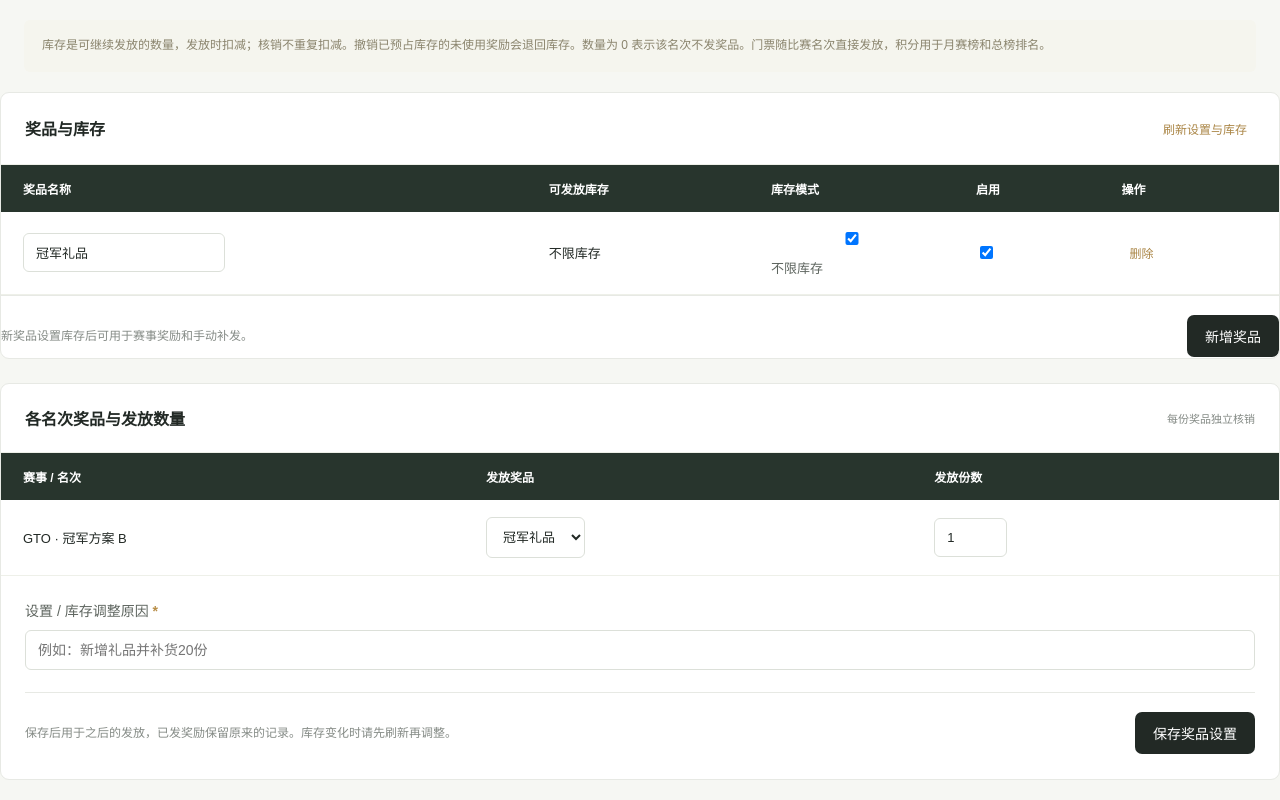
后台保存奖品名称、库存、发放数量和调整原因，带上库存版本
Replace the text in the field named "GIFT奖品名称" with "赛事纪念杯". click: (124, 253)
box: [23,233,225,272]
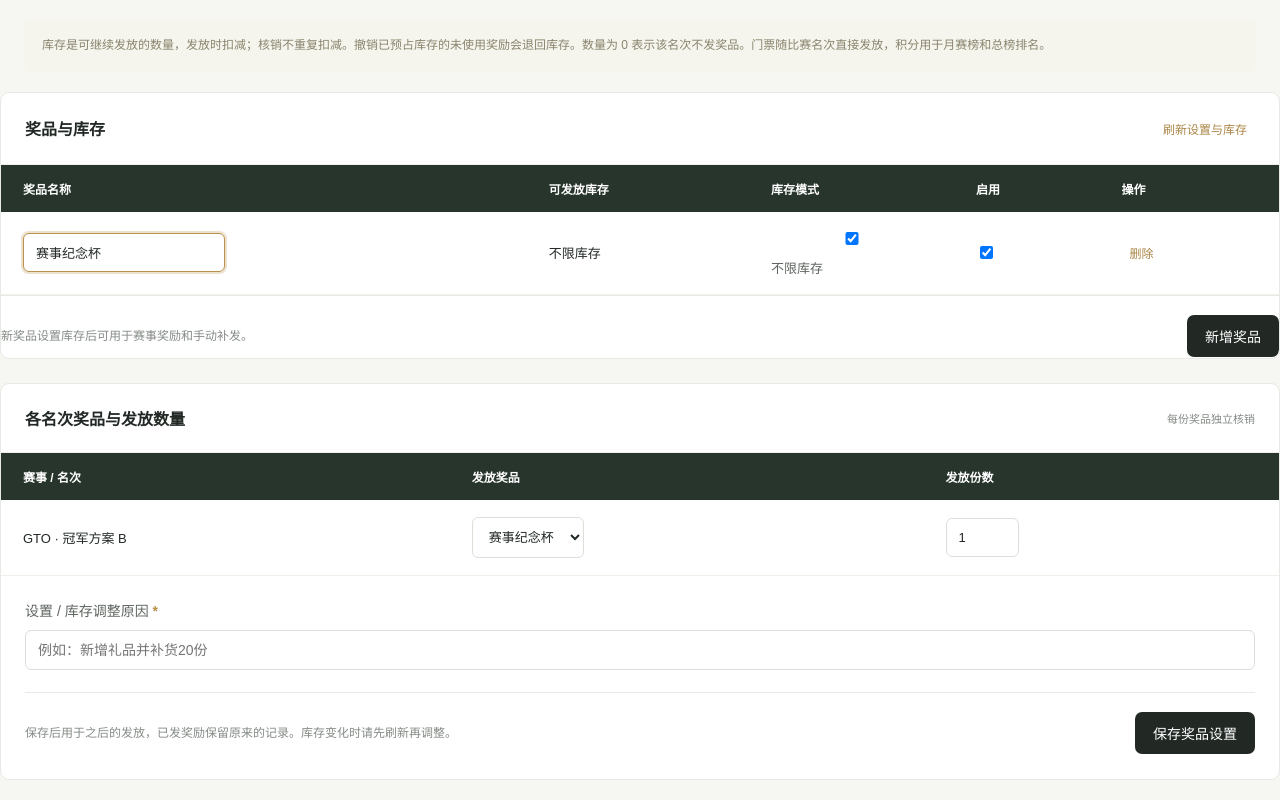
Click the checkbox labelled "不限库存". click: (852, 238)
box: [775,232,929,245]
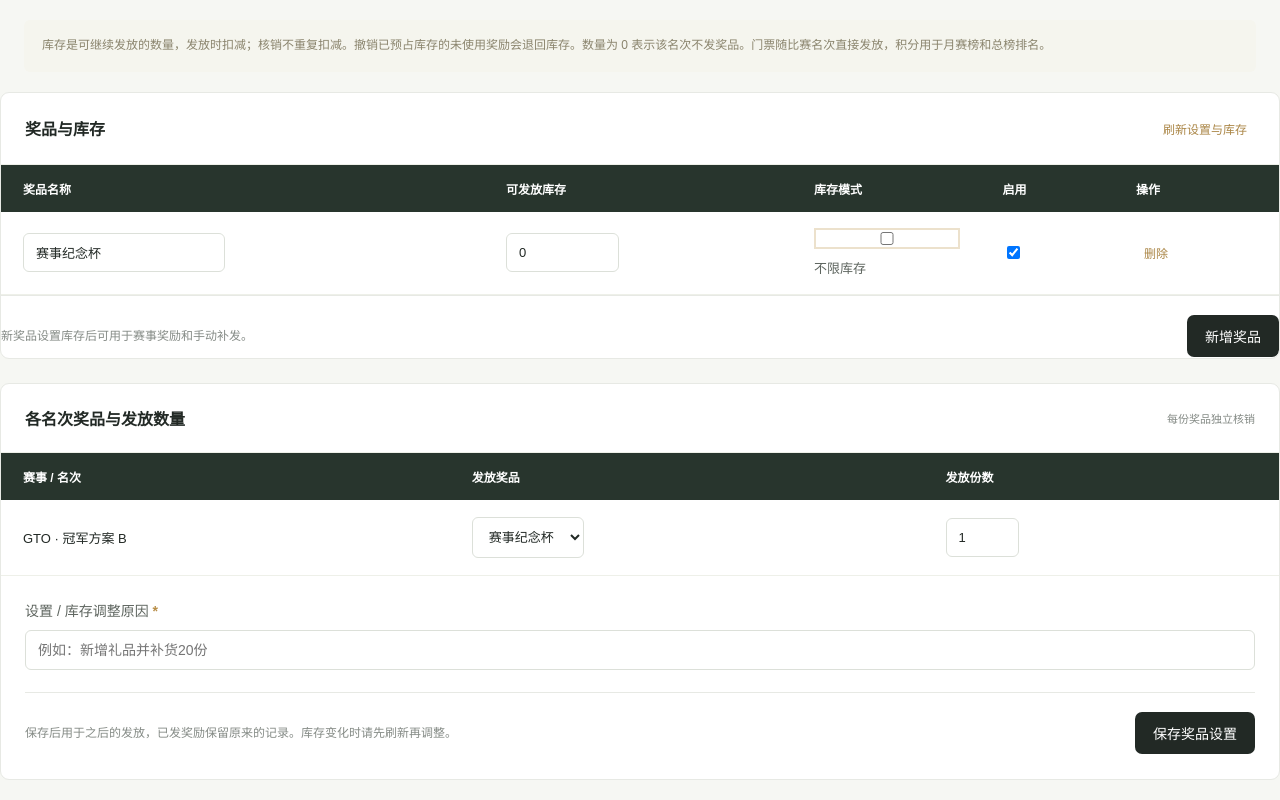
Replace the text in the number field named "GIFT库存" with "10". click: (562, 253)
box: [506,233,619,272]
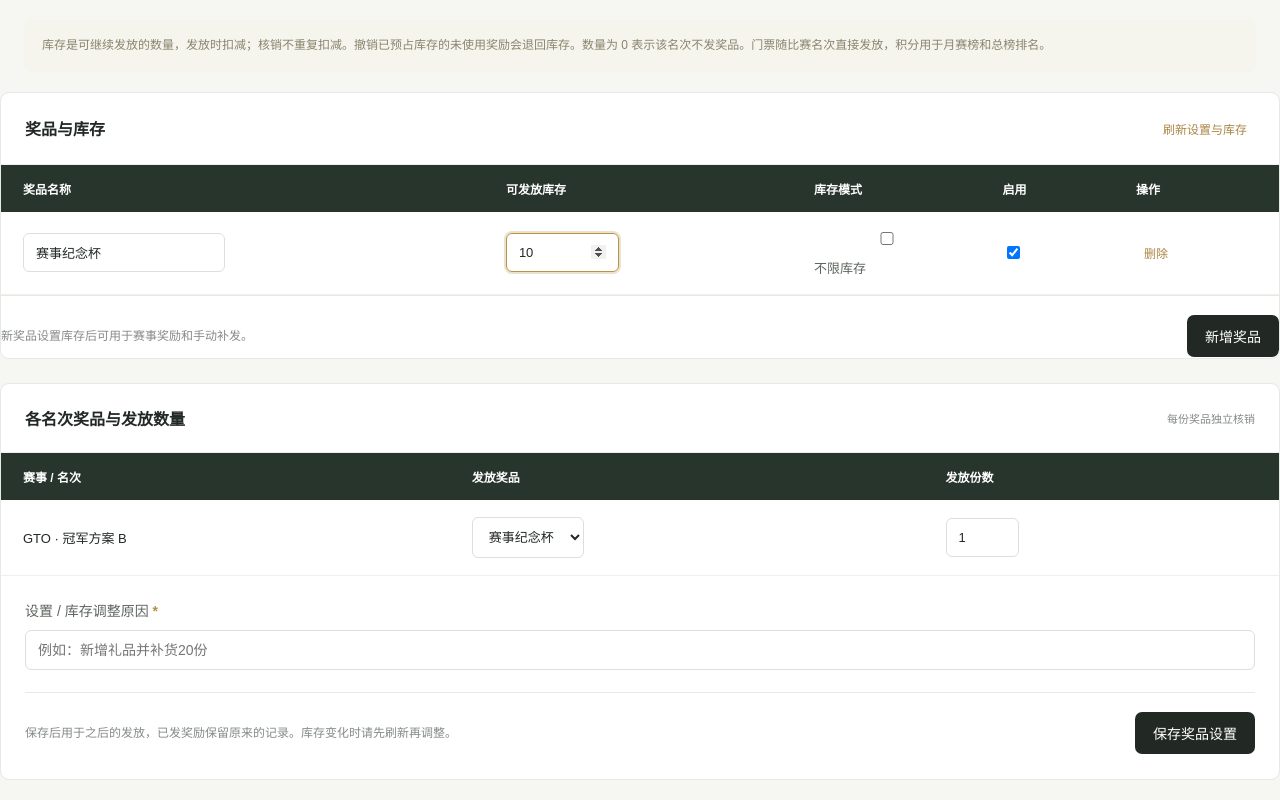
Replace the text in the number field named "GTO · 冠军方案 B数量" with "2". click: (982, 538)
box: [946,518,1019,557]
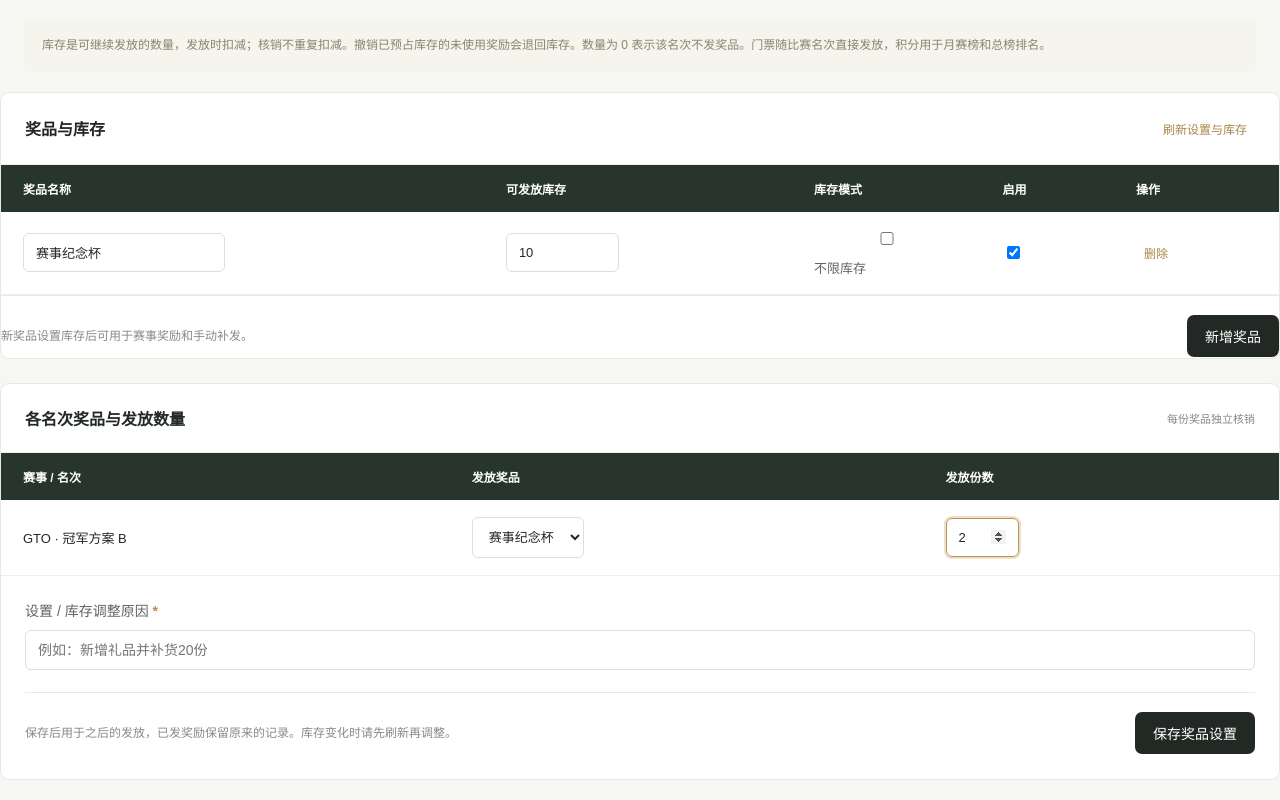
Type "补货10份，每次发放2份" into the field named "设置 / 库存调整原因 *". click: (640, 650)
box: [25,630,1255,670]
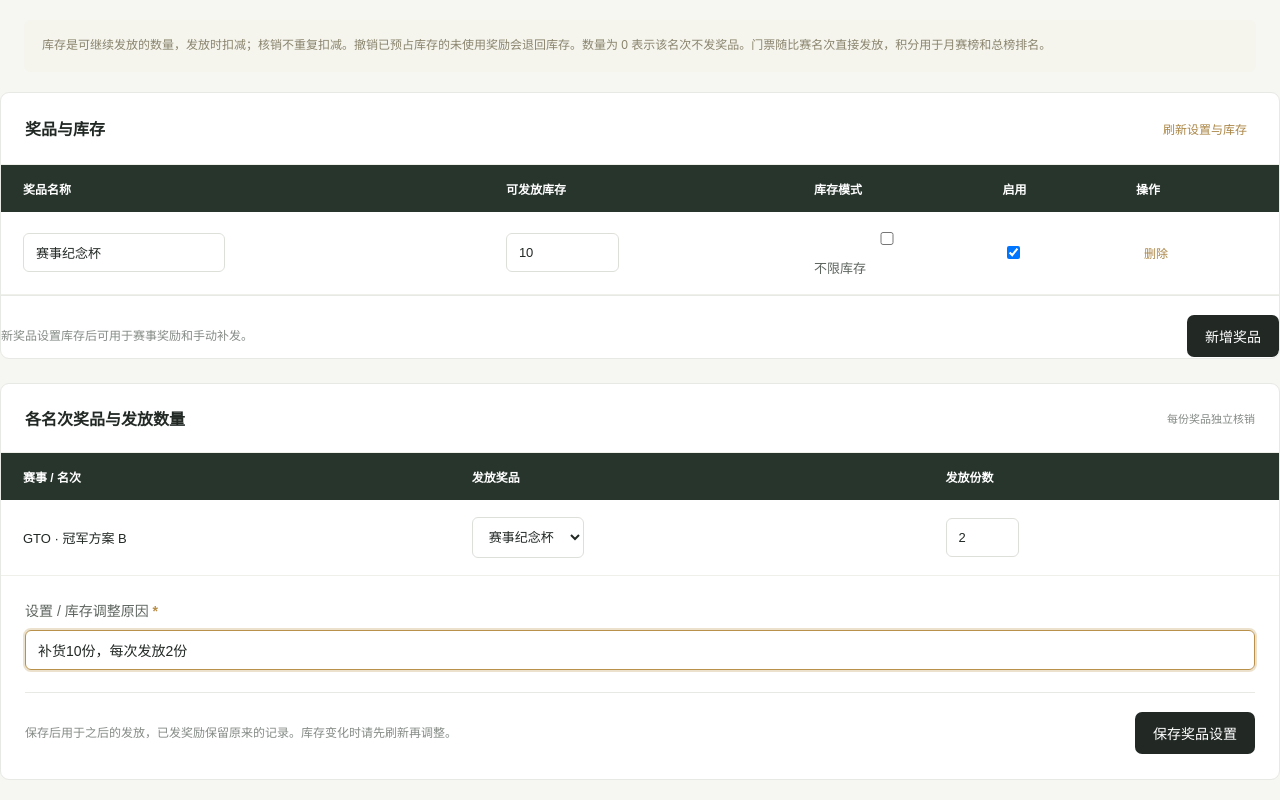
Click the button "保存奖品设置". click: (1195, 733)
box: [1135,712,1255,754]
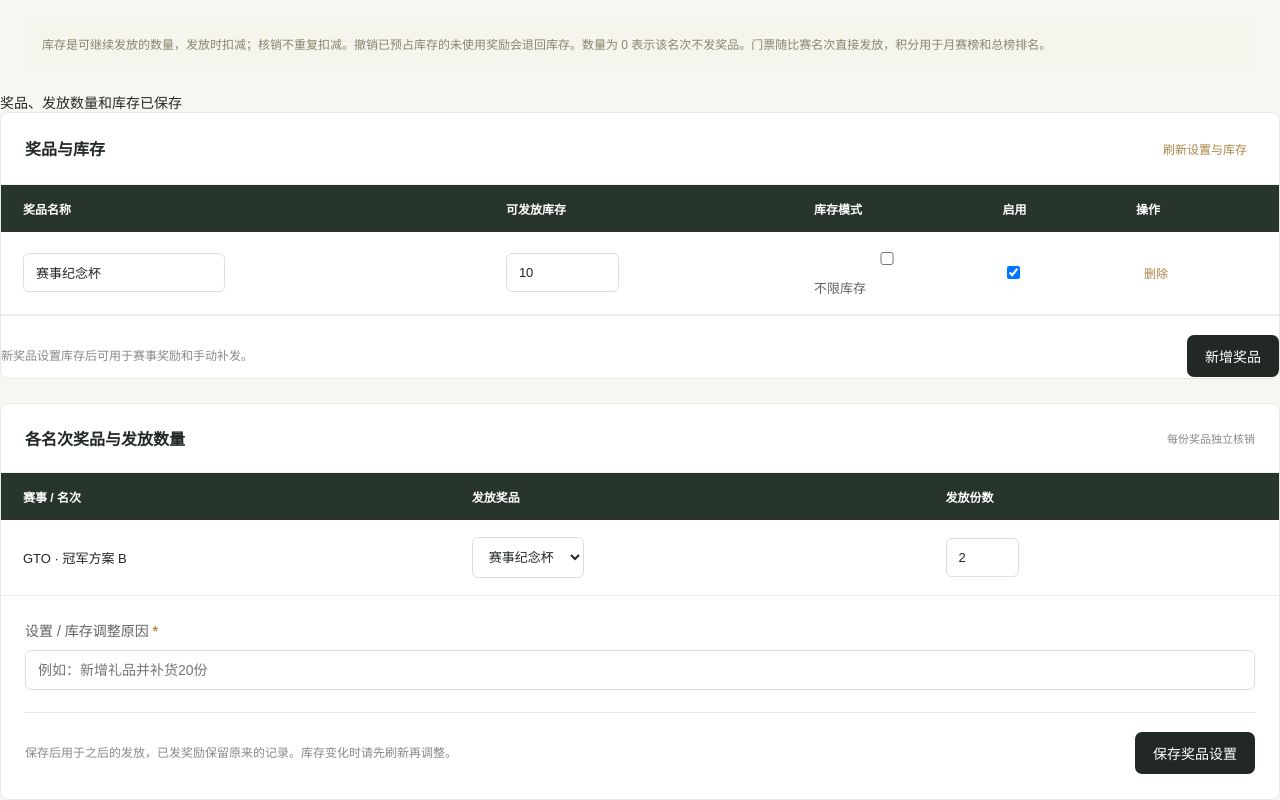
Check: the text "奖品、发放数量和库存已保存" is shown, box [0,95,182,111]
